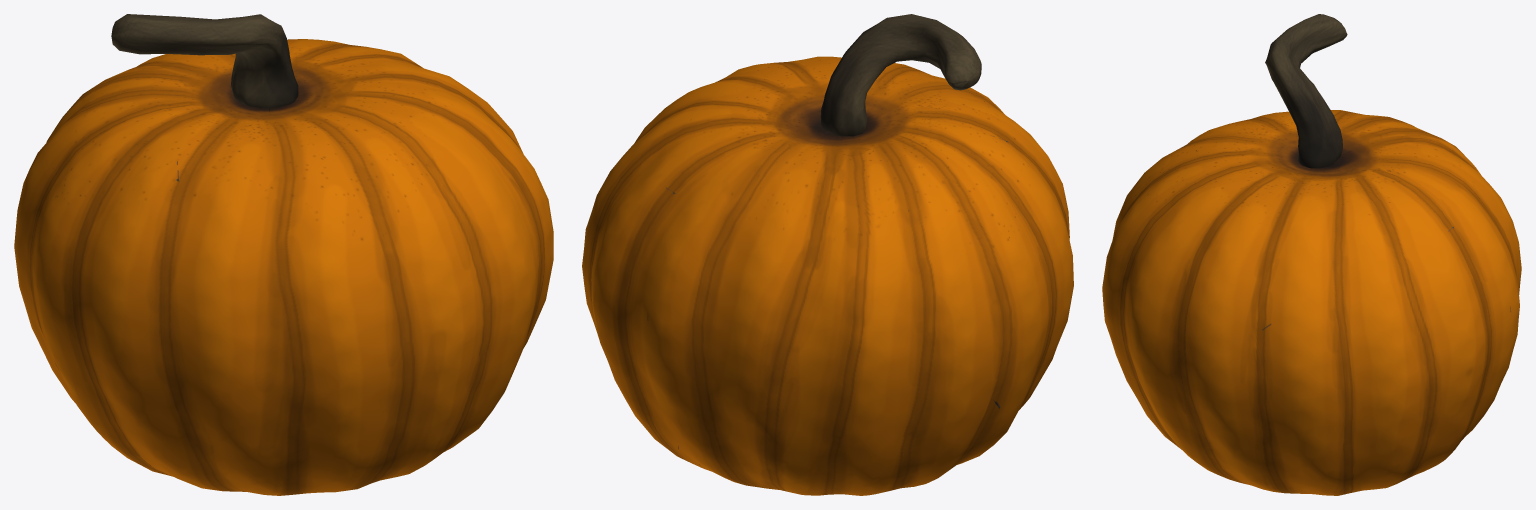
File: Kabak1.fbx
3 renders of one model, left to right at view 1: azimuth 30°, elevation 25°; view 2: azimuth 150°, elevation 25°; view 3: azimuth 270°, elevation 25°, orthographic. The views are drawn at different scales.
Visible parts, largest first — view 1: KabakDis, KabakSap; view 2: KabakDis, KabakSap; view 3: KabakDis, KabakSap.
Boxes of the visible parts, bbox=[...] form: KabakDis: bbox=[14, 39, 553, 495]; KabakSap: bbox=[111, 14, 298, 108]; KabakDis: bbox=[582, 56, 1073, 495]; KabakSap: bbox=[820, 14, 981, 136]; KabakDis: bbox=[1102, 110, 1521, 495]; KabakSap: bbox=[1265, 14, 1347, 168].
Size of the model in its own units: 0.6344 by 0.6592 by 0.6291.
